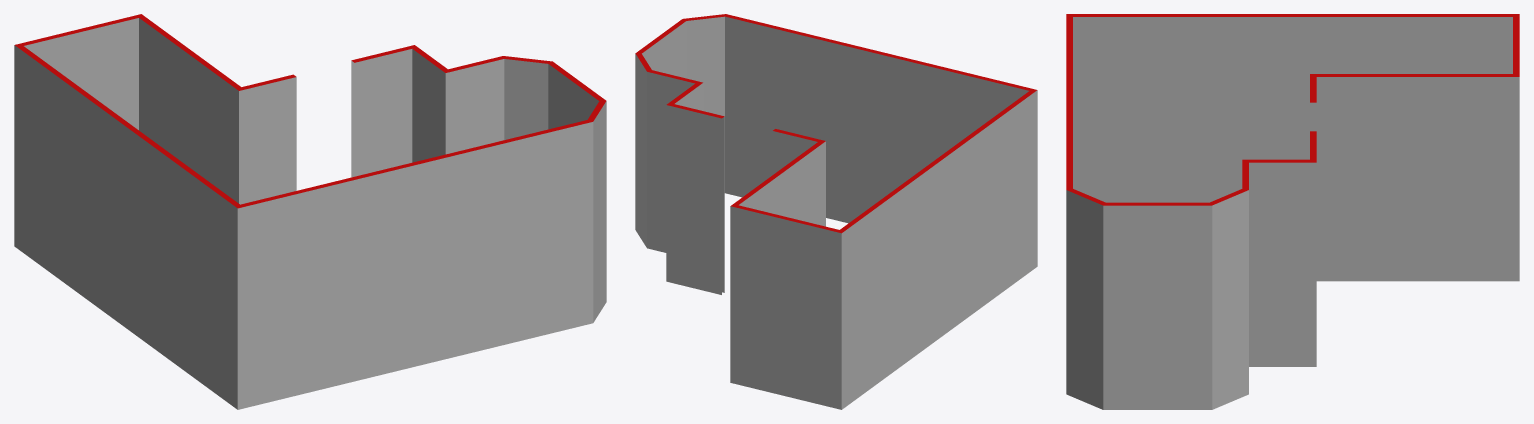
Rendered from x_BAZE_CONTUR_K6_part1_1_rmstrd.fbx.
The picture shows the model from 3 angles, left to right: view 1: azimuth 30°, elevation 25°; view 2: azimuth 150°, elevation 25°; view 3: azimuth 270°, elevation 25°; orthographic projection. The views are drawn at different scales.
Parts seen in each view (by area): view 1: x_BAZE_CONTUR_K6_part1_1_rmstrd1; view 2: x_BAZE_CONTUR_K6_part1_1_rmstrd1; view 3: x_BAZE_CONTUR_K6_part1_1_rmstrd1.
Part boxes in pixels (bbox=[...]): x_BAZE_CONTUR_K6_part1_1_rmstrd1: bbox=[14, 14, 606, 409]; x_BAZE_CONTUR_K6_part1_1_rmstrd1: bbox=[635, 14, 1037, 409]; x_BAZE_CONTUR_K6_part1_1_rmstrd1: bbox=[1066, 14, 1519, 409].
Bounding box in the file's own units: 26.8 × 13.34 × 26.8.
